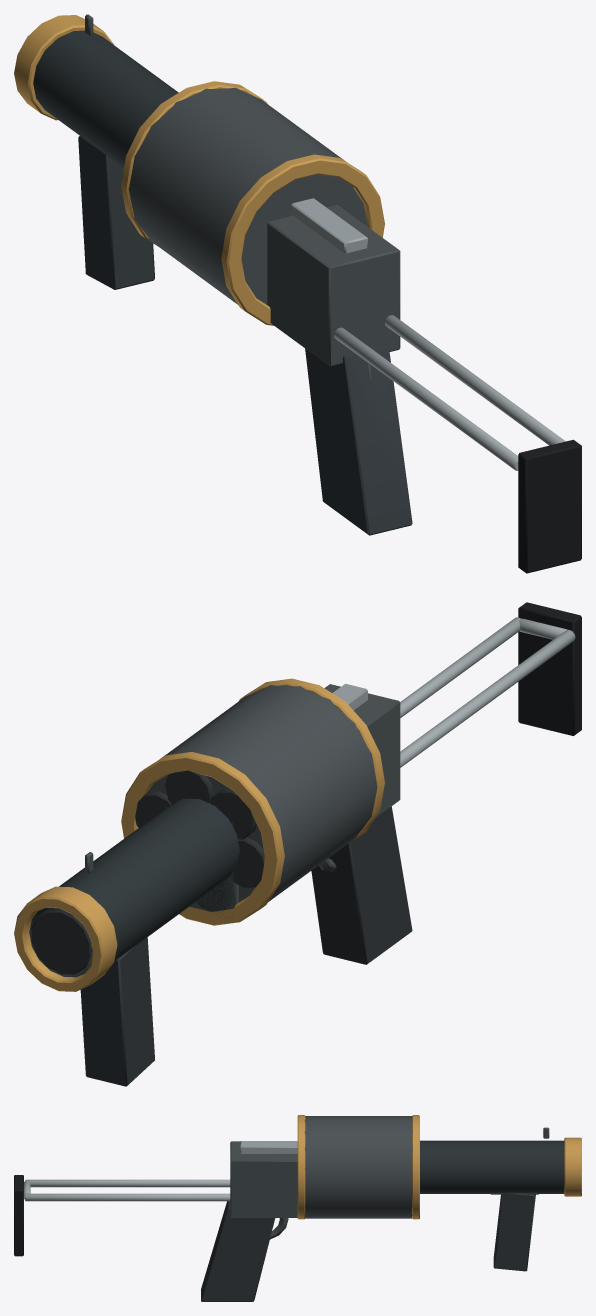
The model's file is W_LanceGrenades.glb.
The picture shows the model from 3 angles, top to bottom: view 1: azimuth 30°, elevation 25°; view 2: azimuth 150°, elevation 25°; view 3: azimuth 270°, elevation 25°; orthographic projection. The views are drawn at different scales.
Parts seen in each view (by area): view 1: W_LanceGrenades; view 2: W_LanceGrenades; view 3: W_LanceGrenades.
Boxes of the visible parts, x1,y1,x2,y2 form: W_LanceGrenades: (14, 14, 581, 573); W_LanceGrenades: (14, 602, 581, 1086); W_LanceGrenades: (14, 1115, 581, 1301).
Size of the model in its own units: 0.106 by 0.1962 by 0.575.
